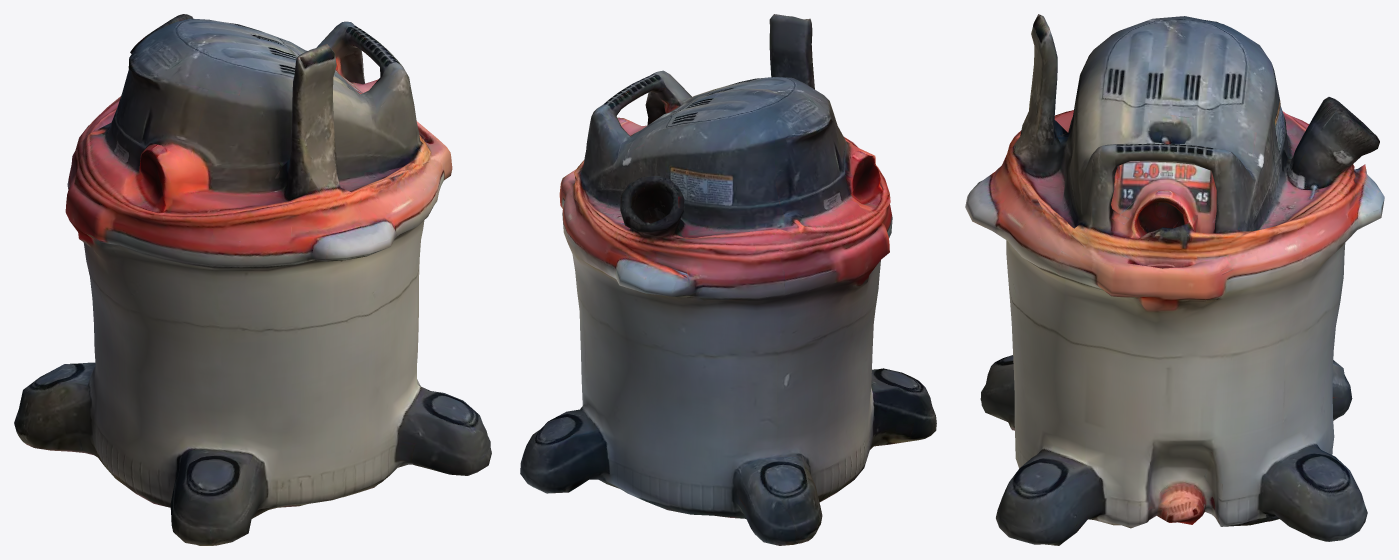
File: shop-vac.glb
The picture shows the model from 3 angles, left to right: view 1: azimuth 30°, elevation 25°; view 2: azimuth 150°, elevation 25°; view 3: azimuth 270°, elevation 25°; orthographic projection. The views are drawn at different scales.
Parts seen in each view (by area): view 1: vacuum_Vacuum_0; view 2: vacuum_Vacuum_0; view 3: vacuum_Vacuum_0.
Boxes of the visible parts, x1,y1,x2,y2 form: vacuum_Vacuum_0: (14, 14, 491, 545); vacuum_Vacuum_0: (520, 14, 936, 545); vacuum_Vacuum_0: (965, 14, 1384, 545).
Bounding box in the file's own units: 0.6115 × 0.774 × 0.6492.
Materials: 1 (1 with a texture image).
